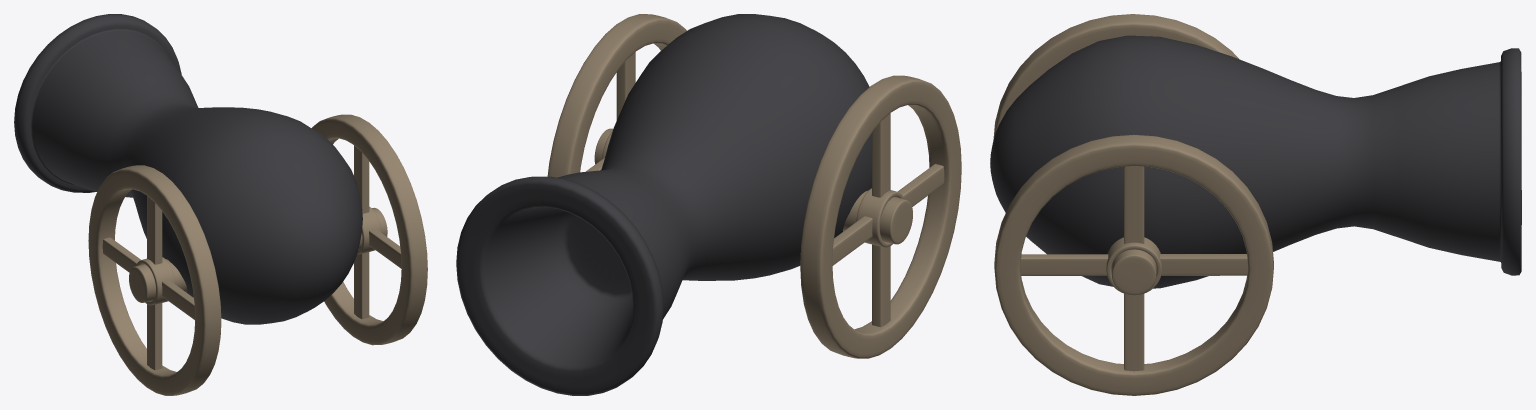
The model's file is Cannon.fbx.
The picture shows the model from 3 angles, left to right: view 1: azimuth 30°, elevation 25°; view 2: azimuth 150°, elevation 25°; view 3: azimuth 270°, elevation 25°; orthographic projection. The views are drawn at different scales.
Visible parts, largest first — view 1: pasted__pCylinder10; view 2: pasted__pCylinder10; view 3: pasted__pCylinder10.
Boxes of the visible parts, x1,y1,x2,y2 form: pasted__pCylinder10: [14, 14, 427, 395]; pasted__pCylinder10: [456, 14, 961, 395]; pasted__pCylinder10: [990, 14, 1521, 395].
Size of the model in its own units: 3.78 by 3.55 by 6.01.
